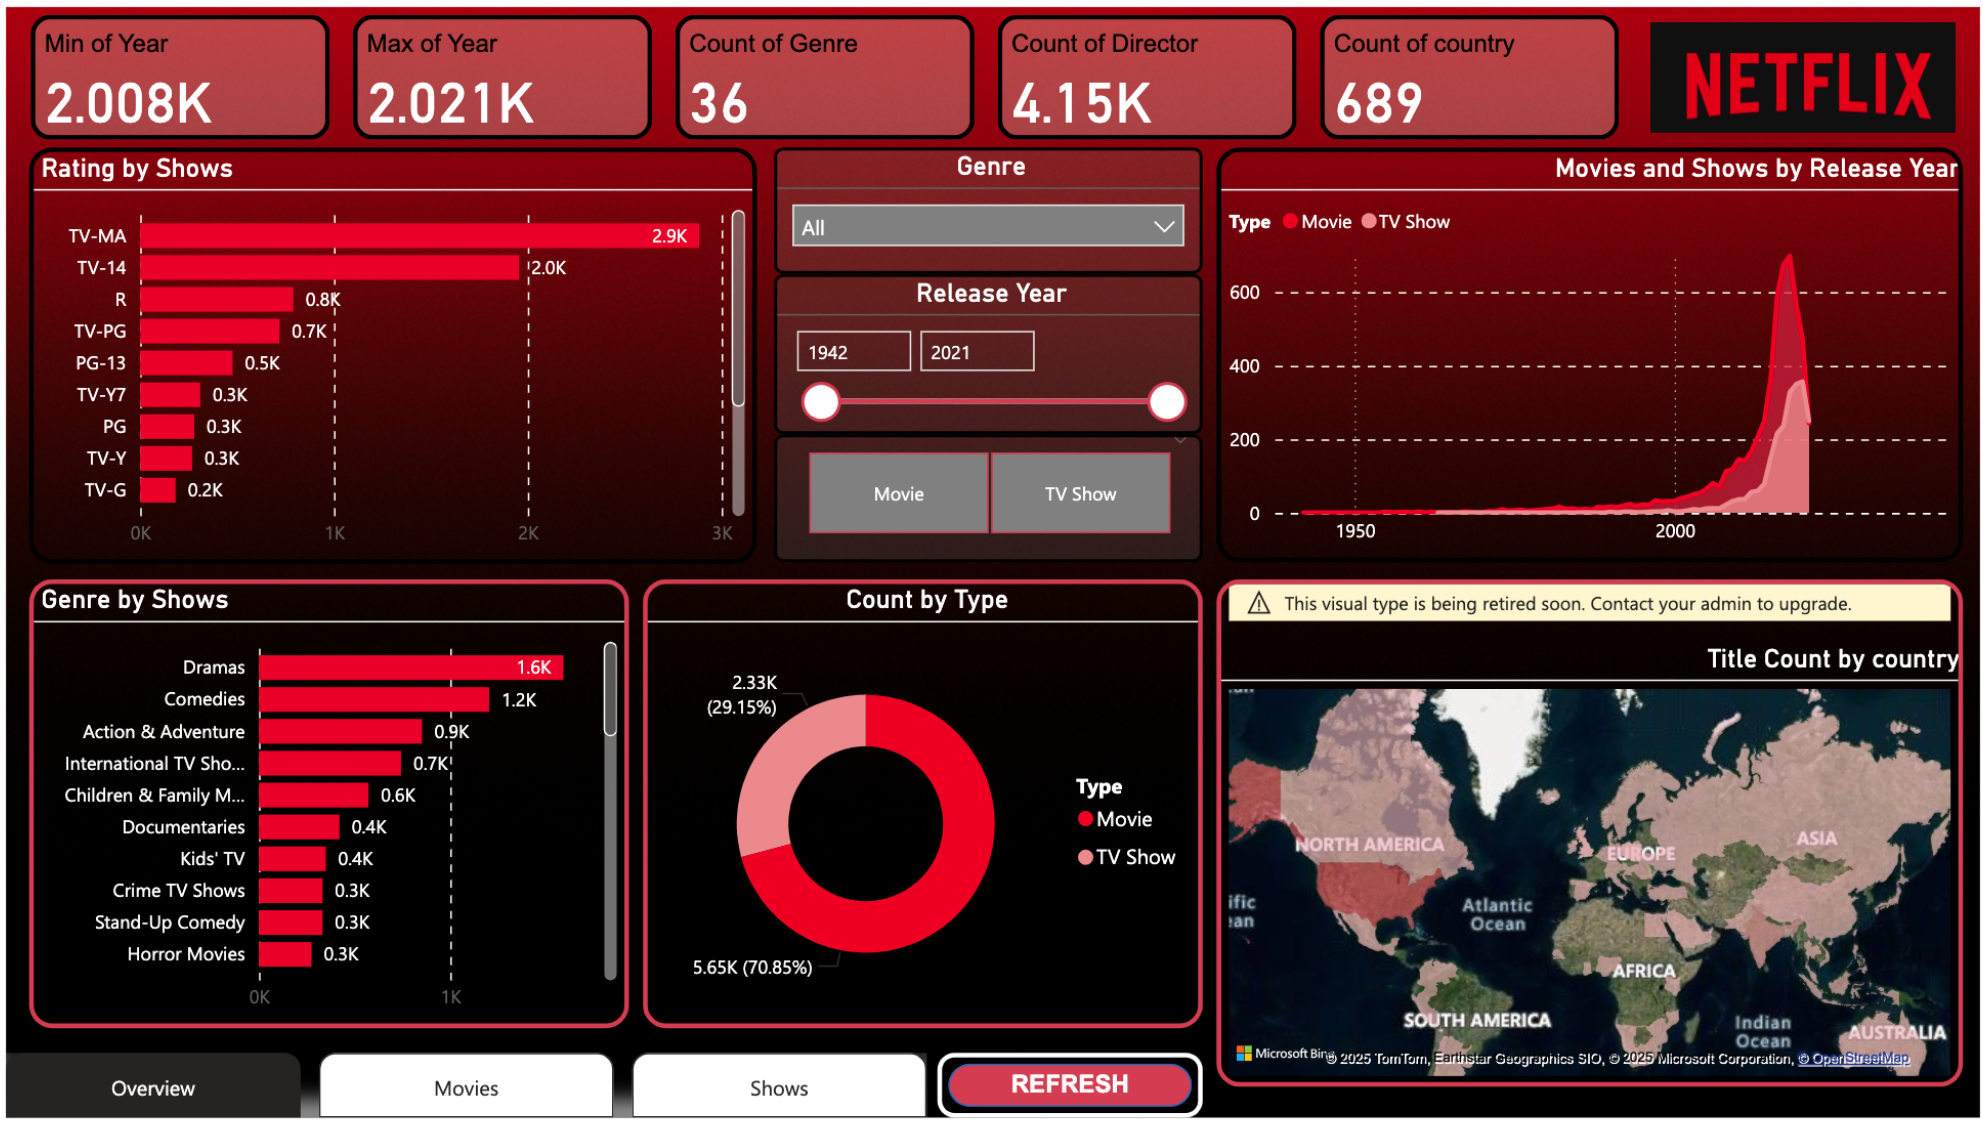

The page's visual inventory and layout, read from the dashboard file:
{"tool":"powerbi","page":{"name":"Overview","canvas":[1280,720],"ordinal":0},"visuals":[{"type":"pageNavigator","box":[0,678.2,596.7,42.1],"z":0},{"type":"cardVisual","fields":{"Data":["Min(transformed_data.Year)","Max(transformed_data.Year)1","Count(transformed_data.genre)","Count(transformed_data.director)","Count(transformed_data.country)"]},"box":[0,0,1060.7,90.5],"z":1000},{"type":"areaChart","title":"Movies and Shows by Release Year","fields":{"Y":["CountNonNull(transformed_data.title)"],"Category":["transformed_data.release_year"],"Series":["transformed_data.type"]},"box":[785.3,90.5,483.2,269],"z":2000},{"type":"barChart","title":"Genre by Shows","fields":{"Category":["transformed_data.genre"],"Y":["CountNonNull(transformed_data.type)"]},"box":[15.3,371,388.8,290.7],"z":3000},{"type":"barChart","title":"Rating by Shows","fields":{"Y":["CountNonNull(transformed_data.type)"],"Category":["transformed_data.rating"]},"box":[15.3,90.5,471.7,270.3],"z":4000},{"type":"donutChart","title":"Count by Type","fields":{"Category":["transformed_data.type"],"Y":["CountNonNull(transformed_data.title)"]},"box":[413.1,371,363.3,290.7],"z":5000},{"type":"filledMap","title":"Title Count by country","fields":{"Category":["transformed_data.country"]},"box":[785.3,371,483.2,328.9],"z":6000},{"type":"slicer","fields":{"Values":["transformed_data.type"]},"box":[498.5,276.7,277.9,82.9],"z":7000},{"type":"slicer","title":"Genre","fields":{"Values":["transformed_data.genre"]},"box":[498.5,90.5,277.9,82.9],"z":8000},{"type":"slicer","title":"Release Year","fields":{"Values":["transformed_data.release_year"]},"box":[498.5,173.4,277.9,103.3],"z":9000},{"type":"image","box":[1060.7,0,207.8,90.5],"z":10000},{"type":"shape","box":[604.3,678.2,172.1,42.1],"z":11000}]}

Visuals, with their boxes in screenshot pixels (x1, y1, x2, y2), scaled from the page's 1280x720 canvas onto the 1983x1125 screenshot:
pageNavigator: box=[0, 1060, 924, 1124]
cardVisual - Min(transformed_data.Year) x Max(transformed_data.Year)1: box=[0, 0, 1643, 141]
"Movies and Shows by Release Year" areaChart: box=[1217, 141, 1965, 562]
"Genre by Shows" barChart: box=[24, 580, 626, 1034]
"Rating by Shows" barChart: box=[24, 141, 754, 564]
"Count by Type" donutChart: box=[640, 580, 1203, 1034]
"Title Count by country" filledMap: box=[1217, 580, 1965, 1094]
slicer - transformed_data.type: box=[772, 432, 1203, 562]
"Genre" slicer: box=[772, 141, 1203, 271]
"Release Year" slicer: box=[772, 271, 1203, 432]
image: box=[1643, 0, 1965, 141]
shape: box=[936, 1060, 1203, 1124]
